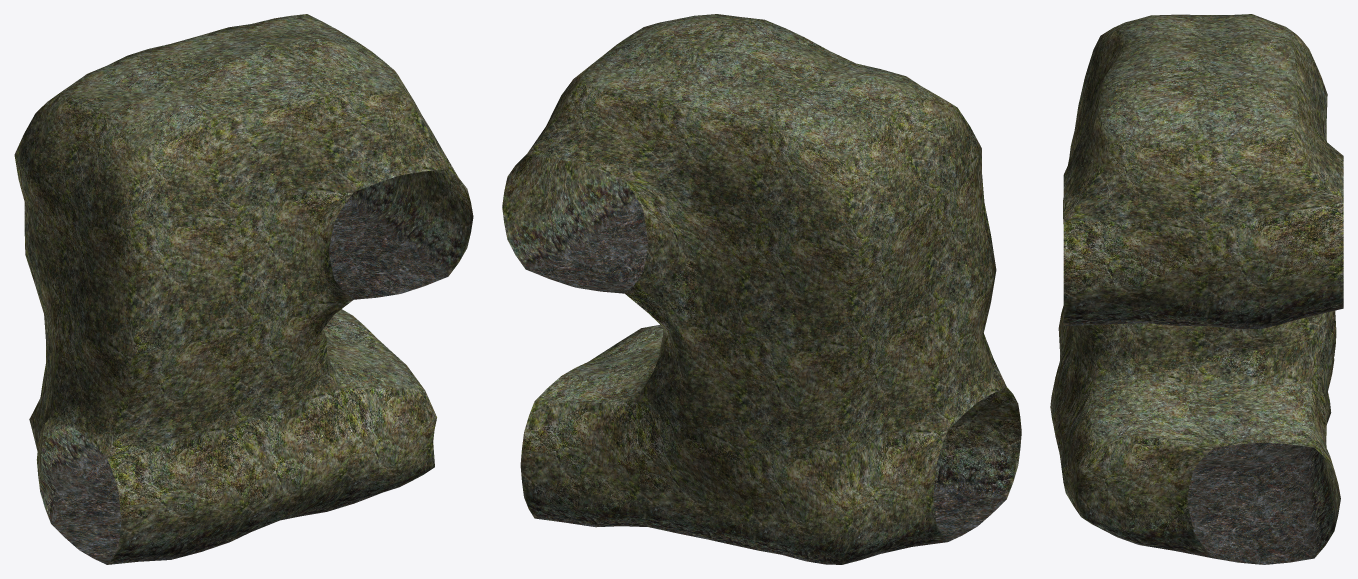
The model's file is thm_all_cave_s03_damprock_r16_r16.fbx.
3 views of the same model, side by side, from view 1: azimuth 30°, elevation 25°; view 2: azimuth 150°, elevation 25°; view 3: azimuth 270°, elevation 25° (orthographic). The views are drawn at different scales.
Visible parts, largest first — view 1: mesh_node; view 2: mesh_node; view 3: mesh_node.
Part boxes in pixels (<box>): mesh_node: <box>14,14,473,564</box>; mesh_node: <box>502,14,1021,564</box>; mesh_node: <box>1050,14,1343,564</box>.
Bounding box in the file's own units: 27.39 × 31.62 × 19.23.
